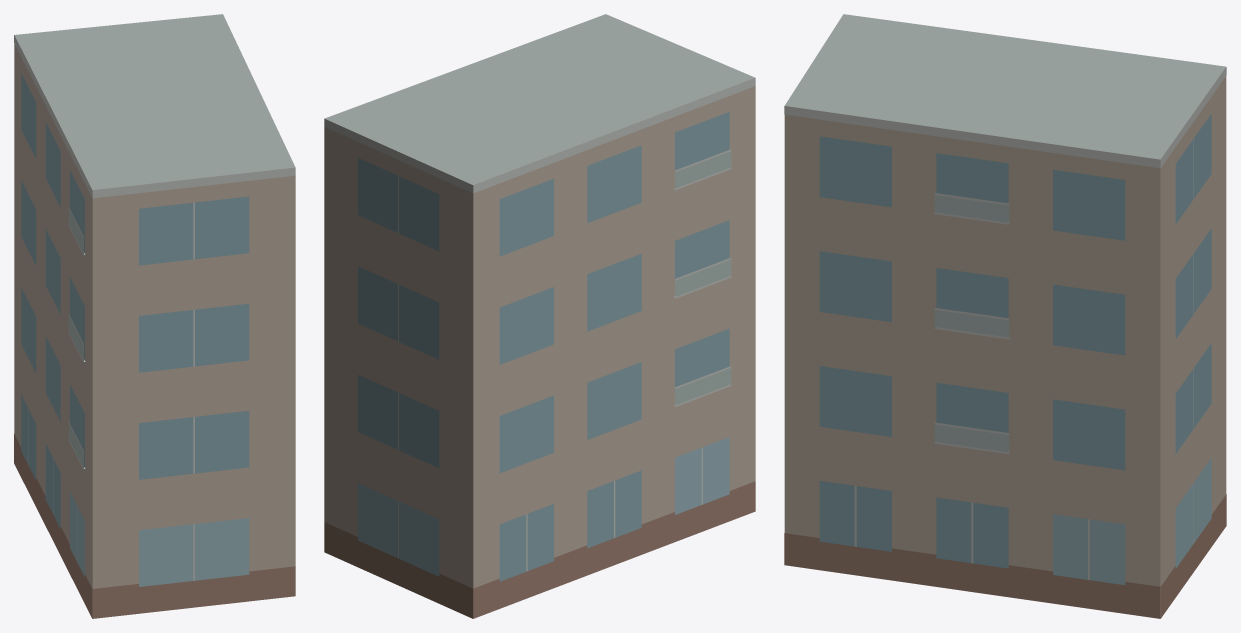
Rendered from survey-upis-32879045.glb.
3 views of the same model, side by side, from view 1: azimuth 30°, elevation 25°; view 2: azimuth 150°, elevation 25°; view 3: azimuth 270°, elevation 25° (orthographic). The views are drawn at different scales.
Parts seen in each view (by area): view 1: survey-upis-32879045.tmp; view 2: survey-upis-32879045.tmp; view 3: survey-upis-32879045.tmp.
Boxes of the visible parts, bbox=[...] form: survey-upis-32879045.tmp: bbox=[14, 14, 295, 618]; survey-upis-32879045.tmp: bbox=[324, 14, 755, 618]; survey-upis-32879045.tmp: bbox=[784, 14, 1226, 618].
Size of the model in its own units: 8.78 by 12.9 by 11.26.
